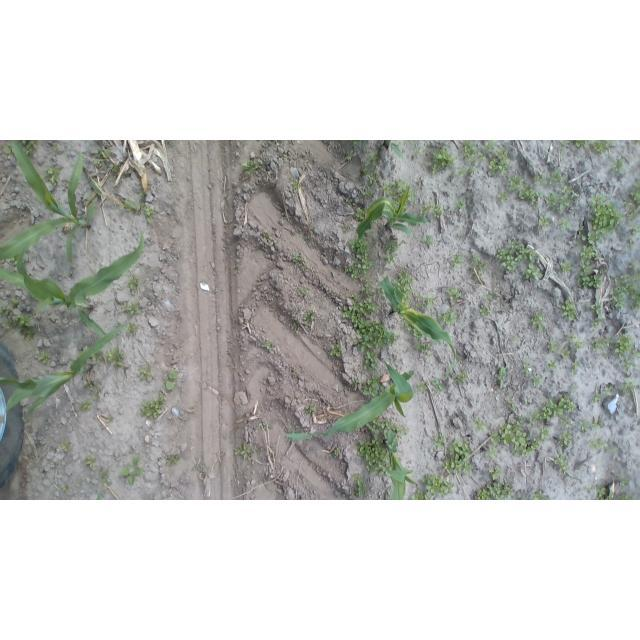Maize: (0, 231, 144, 336), (0, 323, 128, 421), (1, 141, 93, 263), (284, 362, 415, 440), (379, 275, 456, 377), (356, 184, 427, 240), (381, 430, 418, 500), (384, 140, 403, 158)
Weeds: (358, 321, 394, 351), (501, 240, 536, 270), (581, 246, 602, 289), (615, 274, 640, 309), (591, 204, 620, 231), (360, 440, 383, 474), (449, 440, 472, 471), (491, 423, 521, 446), (119, 456, 142, 486), (474, 481, 511, 499), (423, 476, 454, 495), (532, 400, 560, 420), (489, 149, 509, 174), (344, 305, 365, 328), (142, 398, 164, 419), (433, 147, 457, 166), (615, 334, 633, 358), (514, 429, 531, 453), (532, 427, 549, 450), (518, 185, 540, 201), (363, 350, 378, 371), (590, 141, 614, 154), (525, 263, 543, 280), (530, 311, 547, 329), (107, 347, 124, 365), (462, 141, 476, 162), (554, 455, 571, 472), (353, 475, 366, 496), (562, 300, 577, 318), (559, 397, 577, 412), (364, 377, 378, 396), (472, 254, 486, 273), (235, 444, 252, 459), (582, 232, 603, 244), (439, 312, 459, 324), (47, 167, 62, 182), (359, 299, 375, 313), (351, 241, 367, 255), (358, 259, 373, 273), (509, 176, 523, 191), (166, 371, 177, 390), (631, 182, 640, 205), (101, 469, 113, 486), (144, 207, 156, 224), (140, 367, 153, 382), (349, 375, 361, 391), (166, 454, 180, 467), (590, 194, 605, 206), (454, 372, 469, 384), (594, 336, 611, 346), (345, 265, 358, 278), (303, 309, 317, 321), (432, 379, 447, 390), (559, 197, 570, 212), (130, 276, 139, 294), (499, 367, 506, 390), (590, 439, 606, 449), (449, 288, 462, 300), (621, 382, 635, 393), (91, 385, 100, 402), (243, 161, 258, 171), (126, 304, 138, 316), (38, 352, 50, 364), (123, 200, 135, 212), (613, 160, 624, 173), (596, 486, 607, 499), (533, 171, 546, 182), (86, 455, 96, 469), (546, 194, 560, 204), (412, 490, 427, 499), (561, 262, 572, 274), (362, 284, 373, 296), (614, 295, 625, 307), (417, 379, 428, 391), (381, 183, 393, 194), (551, 169, 562, 181), (129, 324, 139, 337), (19, 317, 32, 327), (419, 206, 433, 215), (426, 298, 437, 309), (24, 328, 35, 339), (548, 341, 559, 352), (539, 217, 554, 225), (627, 209, 639, 219), (434, 436, 444, 448), (624, 358, 634, 370), (561, 184, 571, 196), (354, 207, 363, 220), (26, 141, 39, 150), (480, 305, 490, 316), (82, 401, 93, 411), (331, 347, 342, 357), (399, 273, 409, 284), (486, 447, 497, 457), (452, 255, 463, 265), (486, 141, 496, 152), (562, 435, 572, 446), (476, 419, 485, 431), (580, 420, 589, 432), (373, 420, 381, 433), (396, 178, 404, 191), (435, 206, 443, 219), (572, 140, 589, 146), (7, 316, 17, 326), (367, 174, 377, 184), (593, 318, 604, 327), (595, 301, 602, 315), (614, 493, 630, 499), (497, 248, 506, 258), (561, 350, 571, 359), (360, 445, 370, 454), (604, 385, 613, 395), (426, 236, 434, 247), (499, 193, 507, 204), (559, 219, 570, 227), (567, 333, 576, 342), (63, 442, 72, 451), (11, 299, 20, 308), (265, 340, 274, 349), (493, 470, 502, 479), (592, 393, 601, 402), (96, 490, 104, 500), (532, 492, 542, 500), (620, 478, 630, 486), (365, 189, 373, 199), (431, 164, 439, 174), (533, 375, 541, 385), (549, 360, 558, 368), (464, 463, 473, 471), (385, 244, 393, 253), (457, 200, 466, 208), (458, 168, 467, 176), (522, 364, 530, 373), (632, 222, 640, 230), (508, 400, 516, 408), (1, 307, 8, 316), (334, 448, 341, 457), (572, 364, 579, 373), (633, 350, 640, 359), (385, 421, 393, 428), (478, 150, 485, 158), (592, 423, 600, 430), (293, 254, 299, 263), (630, 263, 637, 270), (309, 405, 316, 412), (112, 165, 119, 172), (292, 180, 299, 187), (361, 168, 368, 175), (625, 197, 631, 205), (263, 232, 269, 240), (3, 147, 11, 153), (388, 254, 394, 262), (628, 244, 634, 251), (576, 341, 583, 347), (63, 484, 69, 491), (292, 322, 299, 328), (374, 154, 380, 161), (470, 165, 475, 173), (410, 195, 415, 202), (353, 142, 360, 147), (347, 199, 353, 204), (397, 427, 402, 433), (511, 337, 517, 342), (486, 295, 493, 299)
